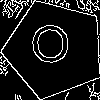O: (29, 24, 72, 73)
